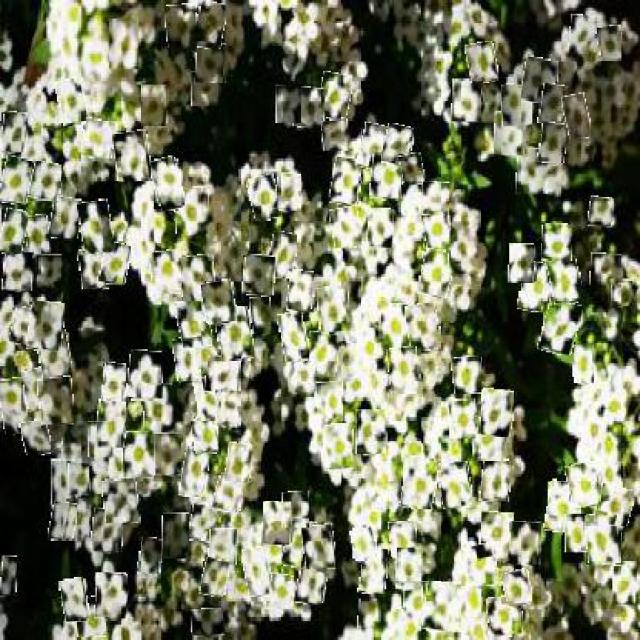Flower: (540, 300, 580, 355), (79, 199, 115, 255), (217, 309, 254, 363), (401, 457, 438, 511), (546, 480, 583, 534), (586, 513, 623, 567), (115, 130, 152, 182), (28, 301, 65, 352), (424, 582, 461, 633), (176, 299, 212, 350), (128, 350, 164, 401), (518, 262, 554, 313), (479, 512, 516, 561), (419, 250, 456, 299), (38, 332, 73, 383), (478, 389, 514, 438), (39, 377, 75, 426), (282, 519, 316, 570), (151, 158, 183, 212), (175, 187, 210, 236), (103, 478, 140, 524), (523, 58, 560, 104), (181, 255, 216, 303), (549, 257, 583, 306), (406, 303, 440, 352), (404, 581, 436, 633), (202, 280, 238, 326), (109, 18, 140, 71), (95, 572, 129, 620), (439, 462, 473, 510), (371, 153, 405, 201), (95, 400, 128, 449), (144, 383, 175, 435), (567, 463, 602, 509), (595, 485, 634, 526), (122, 431, 156, 478), (0, 379, 28, 436), (487, 596, 524, 639), (318, 286, 351, 334), (0, 157, 32, 206), (195, 1, 227, 50), (319, 73, 353, 119), (358, 124, 392, 170), (516, 148, 549, 195), (56, 78, 87, 127), (248, 176, 281, 222), (22, 368, 55, 414), (356, 410, 389, 456), (306, 332, 339, 378), (464, 544, 499, 587), (388, 348, 420, 395), (501, 84, 535, 128), (91, 509, 124, 554), (244, 547, 273, 598), (181, 447, 210, 498), (280, 312, 309, 363), (304, 524, 336, 570), (331, 158, 362, 205), (378, 304, 411, 348), (509, 522, 542, 566), (165, 5, 198, 49), (151, 250, 183, 295), (494, 112, 526, 157), (82, 118, 116, 160), (452, 80, 483, 126), (49, 196, 82, 239), (382, 125, 415, 168), (480, 458, 512, 502), (473, 417, 505, 461), (205, 356, 241, 395), (195, 376, 226, 421), (242, 255, 276, 296), (359, 547, 388, 595), (268, 232, 297, 280), (163, 512, 192, 560), (76, 596, 109, 638), (195, 43, 228, 85), (262, 502, 293, 546), (326, 424, 355, 471), (79, 247, 110, 290), (99, 243, 130, 286), (297, 563, 328, 606), (449, 228, 476, 277), (0, 208, 28, 255), (294, 87, 326, 128), (468, 42, 499, 84), (174, 337, 201, 385), (562, 93, 590, 139), (29, 162, 62, 201), (2, 251, 33, 292), (331, 207, 362, 248), (155, 432, 183, 477), (51, 459, 77, 506), (539, 122, 568, 164), (423, 210, 452, 252), (21, 418, 52, 457), (452, 356, 483, 395), (140, 85, 168, 128), (539, 84, 568, 125), (62, 578, 89, 622), (541, 225, 573, 262), (213, 475, 244, 513), (102, 363, 128, 408), (590, 253, 624, 287), (449, 399, 476, 441), (509, 243, 536, 285), (503, 569, 532, 608), (49, 501, 77, 541), (226, 443, 254, 483), (390, 519, 418, 559), (367, 209, 395, 249), (396, 548, 422, 591), (288, 271, 315, 312), (614, 561, 638, 607), (275, 173, 303, 212), (1, 112, 27, 154), (419, 181, 450, 216), (569, 15, 596, 55), (209, 529, 238, 566), (289, 358, 318, 395), (191, 71, 220, 108), (25, 215, 51, 256), (10, 307, 38, 345), (316, 382, 344, 420), (282, 492, 310, 530), (202, 559, 229, 598), (565, 514, 591, 554), (276, 85, 302, 125), (190, 504, 218, 541), (193, 416, 219, 455), (66, 499, 91, 539), (514, 49, 541, 86), (88, 420, 114, 458), (192, 609, 226, 638), (35, 254, 63, 289), (269, 573, 295, 610), (216, 391, 241, 428), (573, 345, 596, 385), (321, 118, 348, 152), (139, 538, 163, 576), (598, 26, 622, 63), (351, 527, 377, 561), (250, 296, 272, 336), (195, 338, 221, 371), (589, 196, 615, 227), (400, 153, 425, 185), (68, 463, 91, 497), (1, 555, 18, 597), (611, 279, 634, 308), (358, 599, 379, 630)
